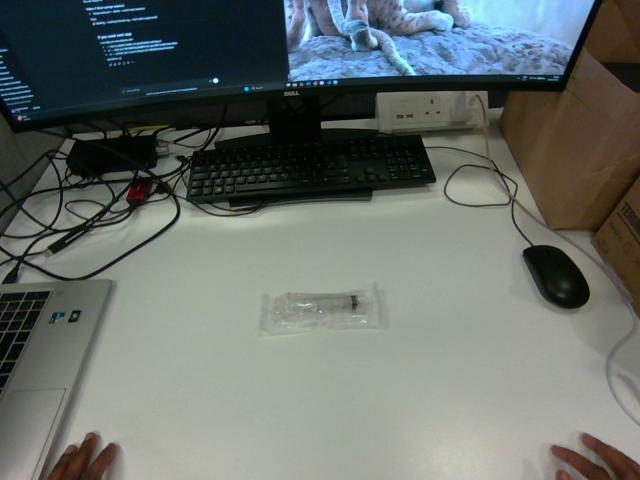syringe: (260, 284, 380, 334)
